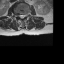CCS_normal: (21, 12, 23, 21)
LFS_normal: (24, 12, 27, 18)
LLS_normal: (23, 12, 24, 19)
RFS_stenosis: (17, 12, 19, 18)
RLS_normal: (19, 12, 21, 19)
